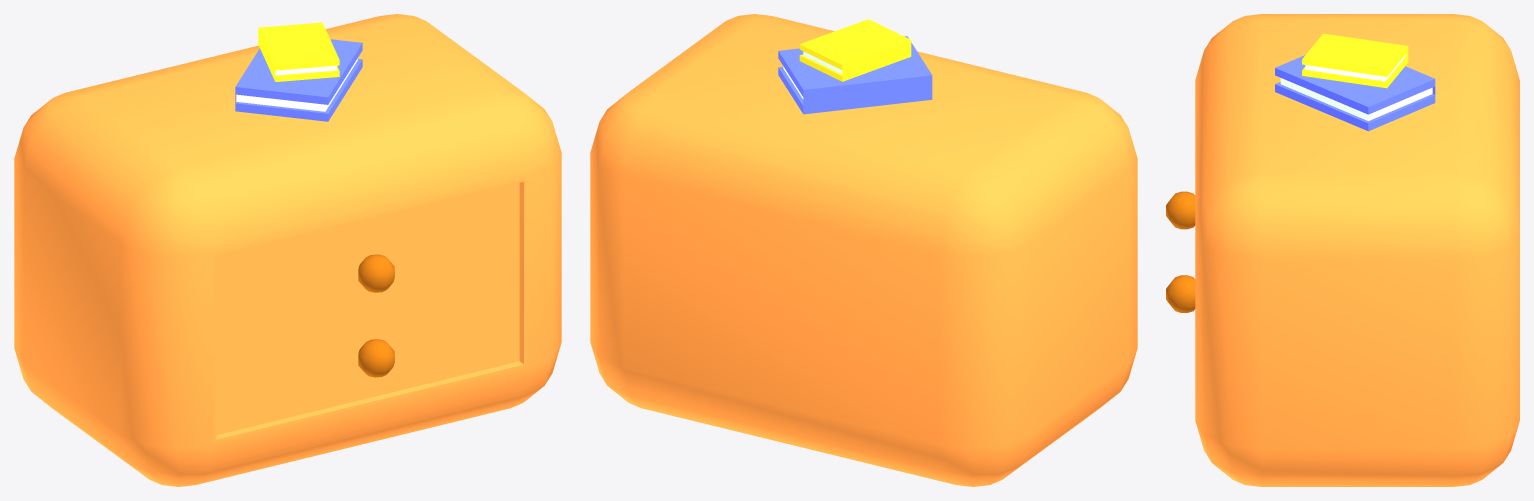
The model's file is EndTable.fbx.
The picture shows the model from 3 angles, left to right: view 1: azimuth 30°, elevation 25°; view 2: azimuth 150°, elevation 25°; view 3: azimuth 270°, elevation 25°; orthographic projection.
Visible parts, largest first — view 1: Cube_3; view 2: Cube_3; view 3: Cube_3.
Boxes of the visible parts, left/top/right/bottom form: Cube_3: left=14, top=14, right=561, bottom=486; Cube_3: left=590, top=14, right=1137, bottom=486; Cube_3: left=1166, top=14, right=1519, bottom=486.
Size of the model in its own units: 222 by 177 by 159.
